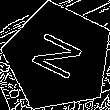N_SE: (27, 29, 90, 86)
